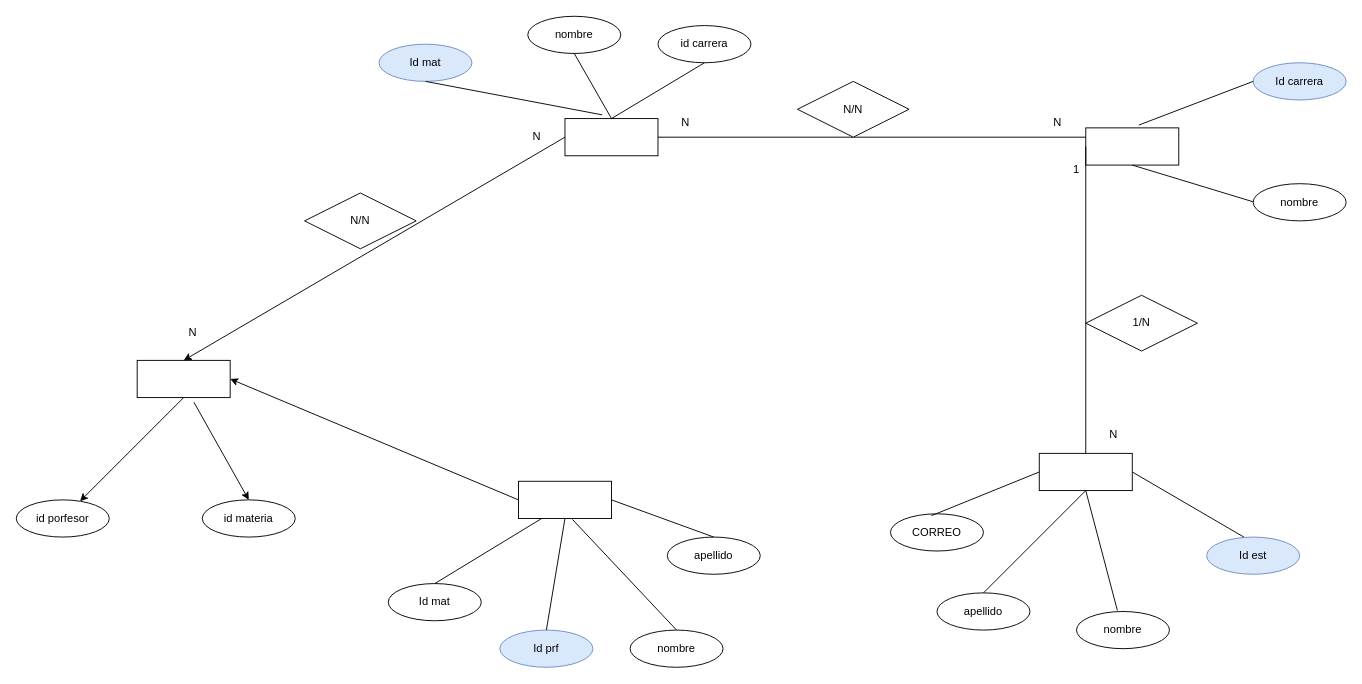
The diagram is 1362 pixels wide and 684 high, and some of its shapes have lost their labels. Each missing label, with the box of its shape:
alumno: (1038, 452, 1132, 491)
carrera: (1085, 127, 1179, 165)
materias: (564, 118, 658, 156)
profesores: (518, 480, 611, 518)
profesores materias: (136, 359, 230, 398)
